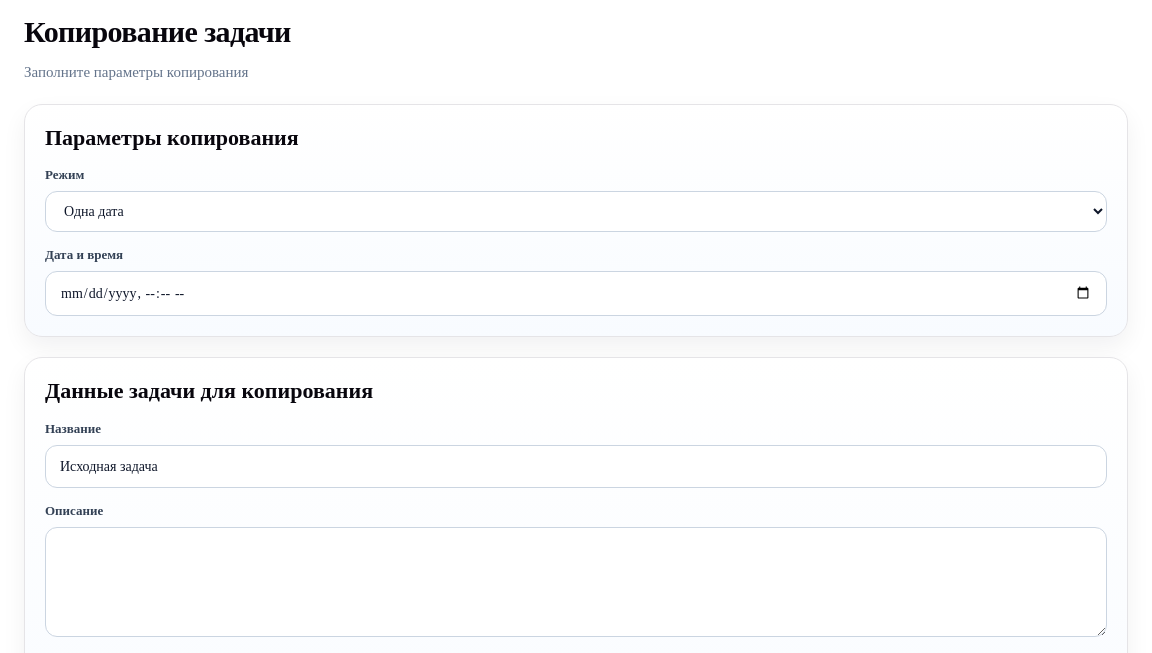
Test: TaskCreate Component › отображает ошибку копирования, если не указано время в режиме range
Select "Диапазон дат" in the dropdown labelled "Режим". click: (576, 211)
box: [45,191,1107,232]
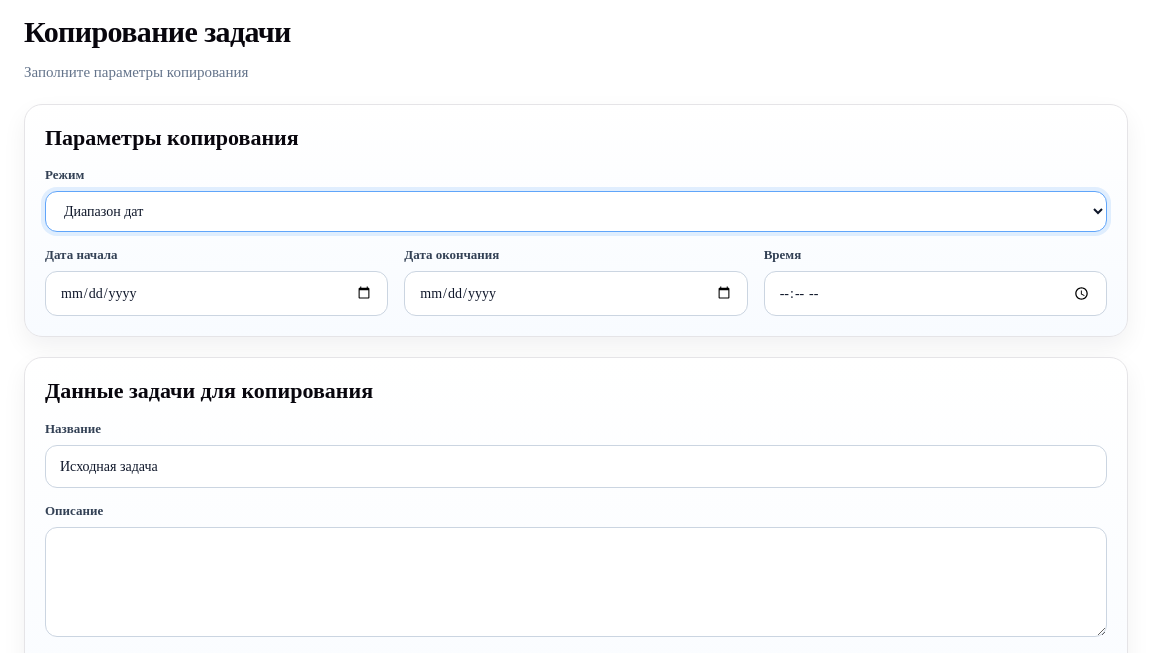
Type "2026-06-15" into the date field labelled "Дата начала". click: (217, 294)
box: [45,271,388,316]
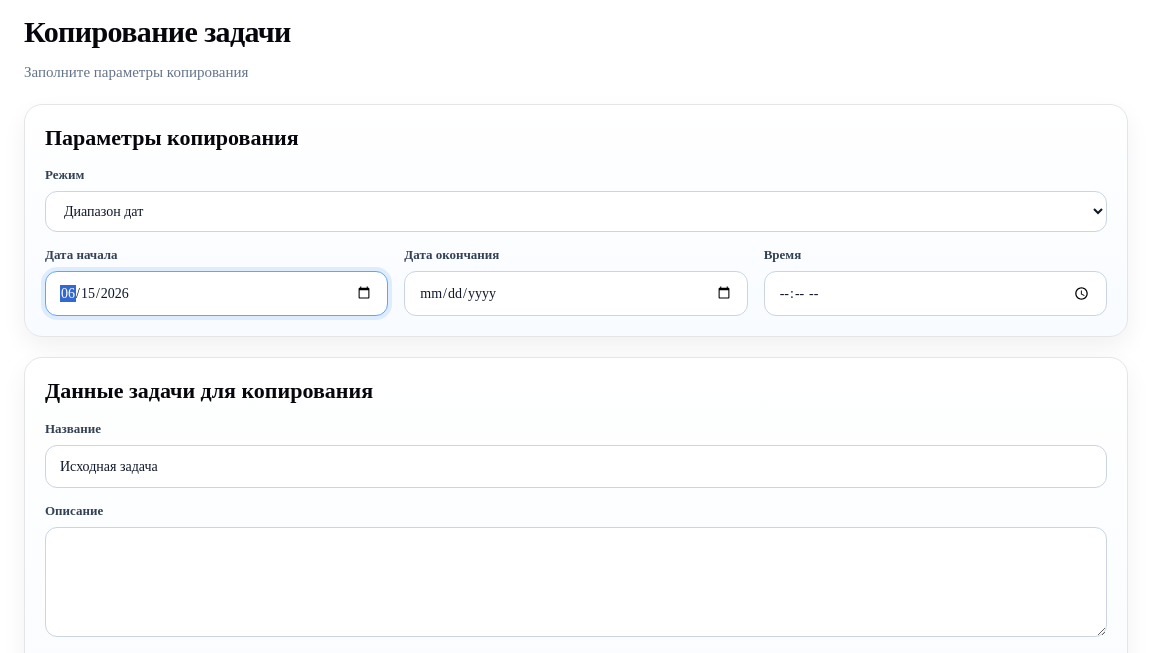
Type "2026-06-15" into the date field labelled "Дата окончания". click: (576, 294)
box: [404,271,748,316]
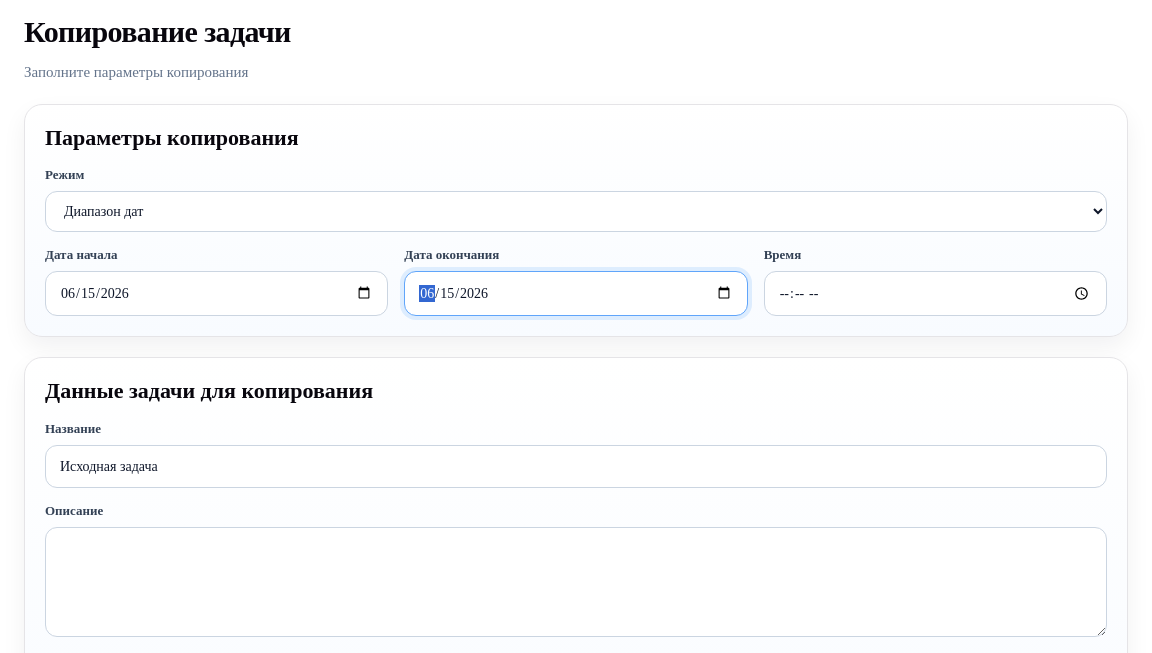
Clear the time field labelled "Время". click: (935, 294)
box: [764,271,1107,316]
(page scrolled)
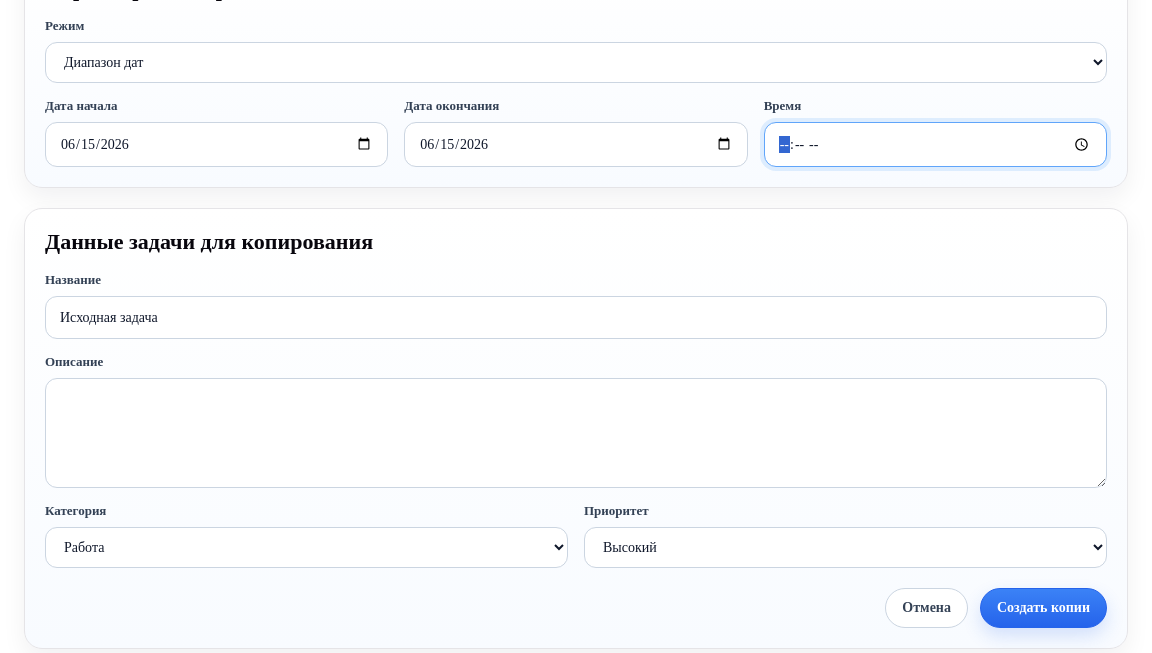
Click the button "Создать копии". click: click(1043, 608)
box: [980,588,1107,628]
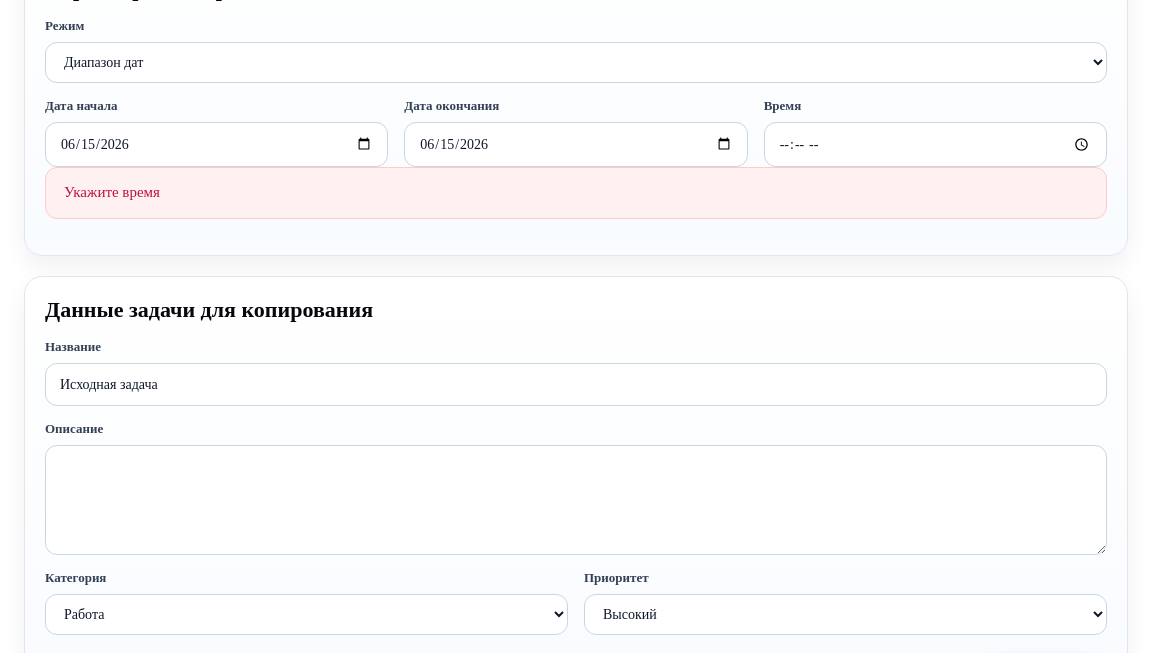
Result: the message reads "Укажите время" at [64,184,160,200]
